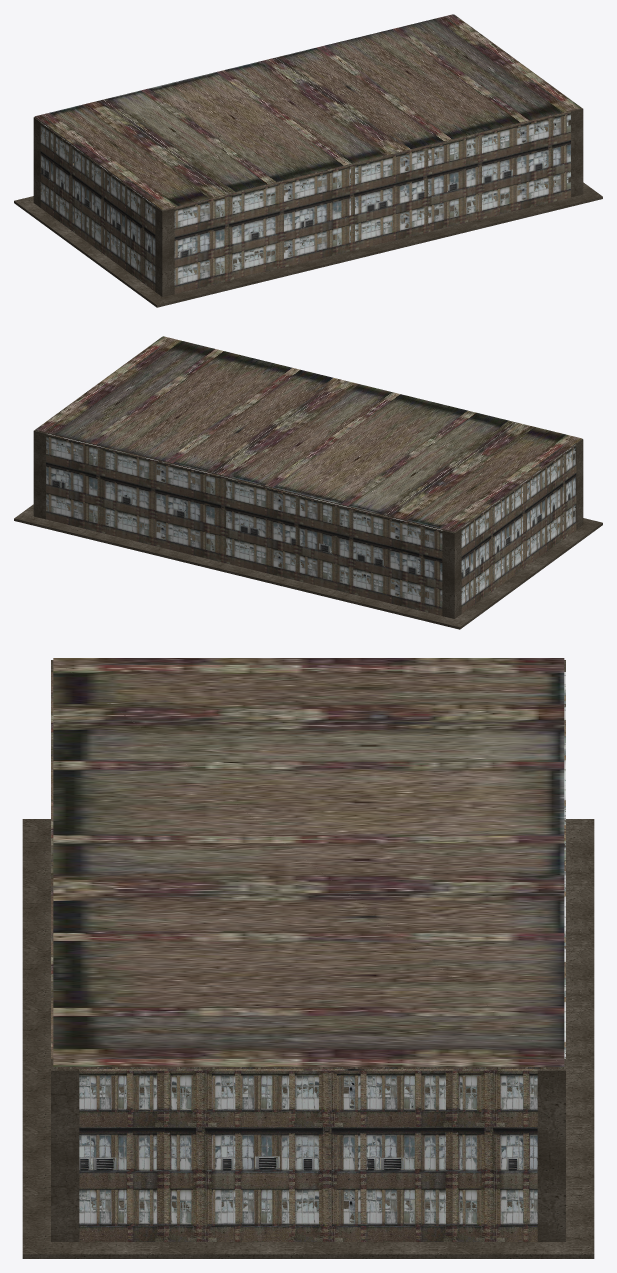
Rendered from BagSS08base_200.fbx.
3 renders of one model, top to bottom at view 1: azimuth 30°, elevation 25°; view 2: azimuth 150°, elevation 25°; view 3: azimuth 270°, elevation 25°, orthographic. The views are drawn at different scales.
Parts seen in each view (by area): view 1: BaseBox200, baseMain200, Basefloor200; view 2: BaseBox200, baseMain200, Basefloor200; view 3: BaseBox200, baseMain200, Basefloor200.
Part boxes in pixels (left/top/right/bottom): BaseBox200: left=34, top=14, right=580, bottom=285; baseMain200: left=40, top=20, right=575, bottom=293; Basefloor200: left=14, top=14, right=602, bottom=307; BaseBox200: left=35, top=336, right=582, bottom=607; baseMain200: left=41, top=342, right=576, bottom=615; Basefloor200: left=14, top=336, right=602, bottom=629; BaseBox200: left=53, top=658, right=564, bottom=1225; baseMain200: left=51, top=672, right=565, bottom=1241; Basefloor200: left=22, top=660, right=594, bottom=1258.
Size of the model in its own units: 64.54 by 12.31 by 35.84.
